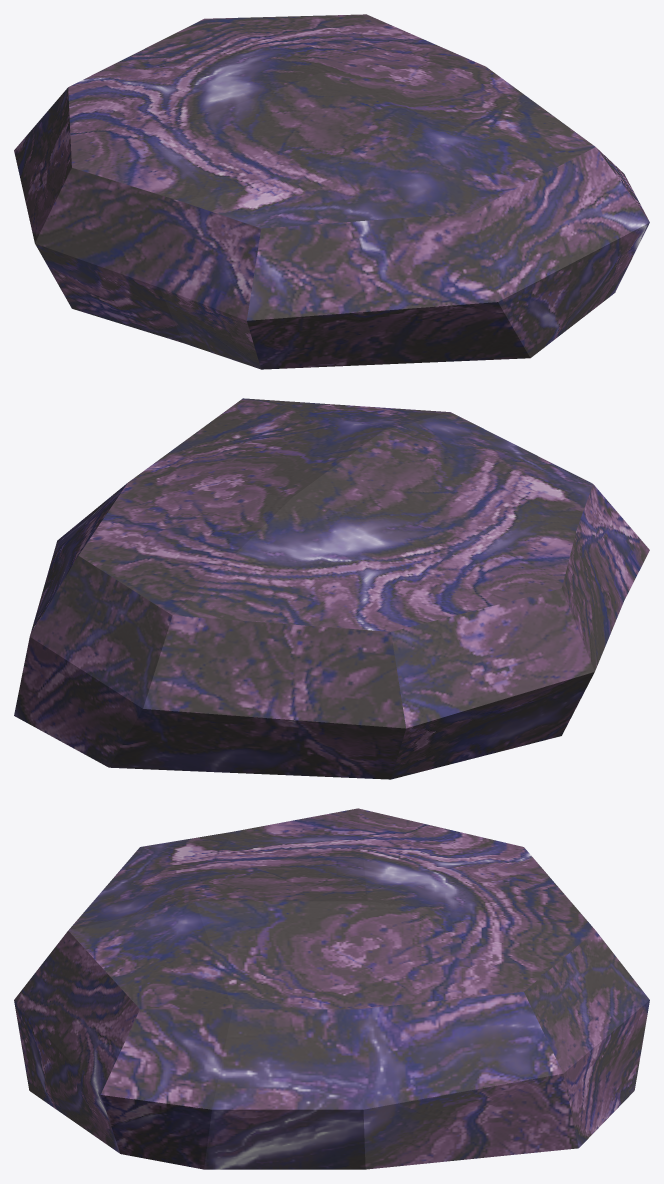
Rendered from Sea_Large_Rock2_SM.fbx.
3 renders of one model, top to bottom at view 1: azimuth 30°, elevation 25°; view 2: azimuth 150°, elevation 25°; view 3: azimuth 270°, elevation 25°, orthographic. The views are drawn at different scales.
Visible parts, largest first — view 1: Sea_Large_Rock2_SM; view 2: Sea_Large_Rock2_SM; view 3: Sea_Large_Rock2_SM.
Part boxes in pixels (<box>): Sea_Large_Rock2_SM: <box>14,14,649,369</box>; Sea_Large_Rock2_SM: <box>14,398,649,779</box>; Sea_Large_Rock2_SM: <box>14,808,649,1169</box>.
Size of the model in its own units: 721 by 229 by 778.
1 material, 1 textured.
